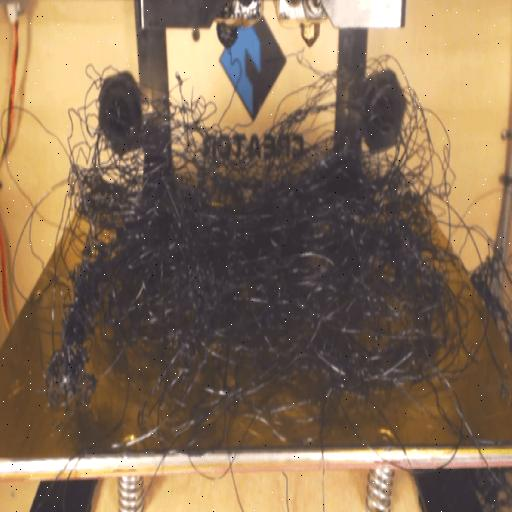spaghetti: (44, 54, 468, 430)
